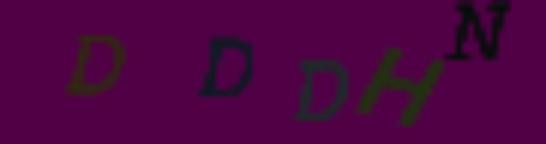D: (66, 31, 127, 98), (295, 54, 353, 123), (194, 36, 256, 100)
H: (356, 44, 449, 128)
N: (449, 1, 510, 63)
